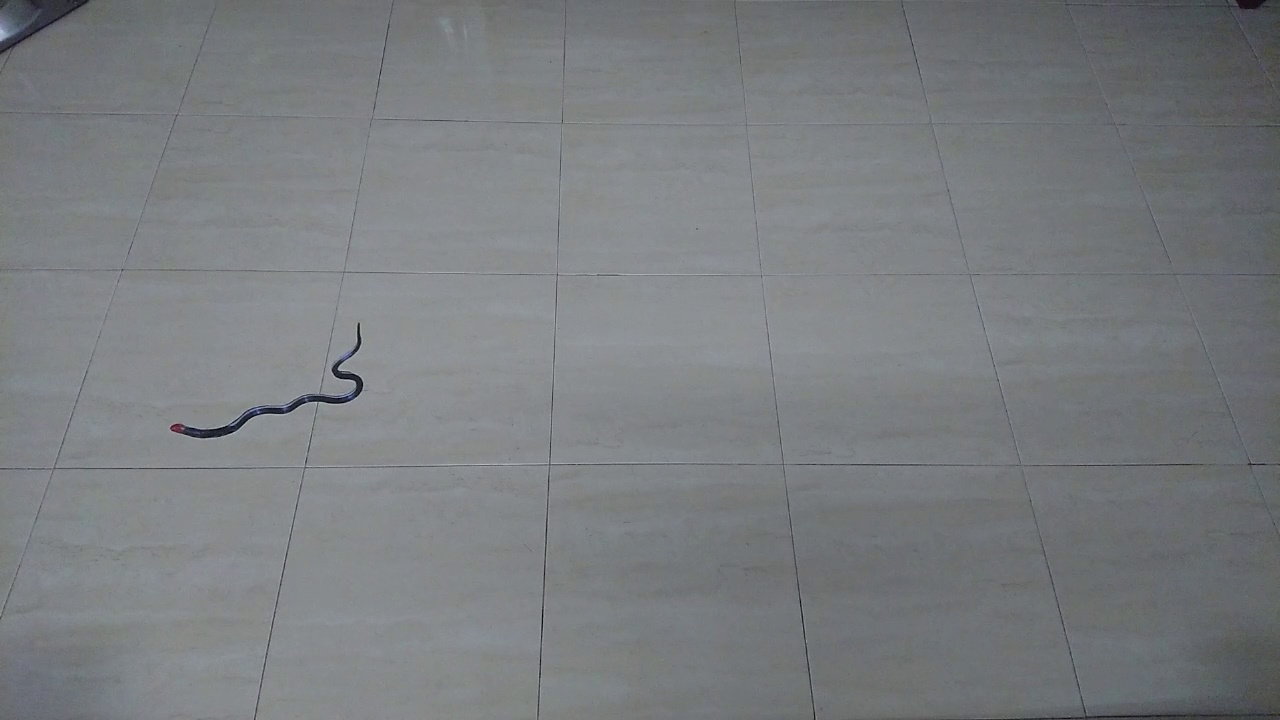snake: (157, 311, 378, 448)
